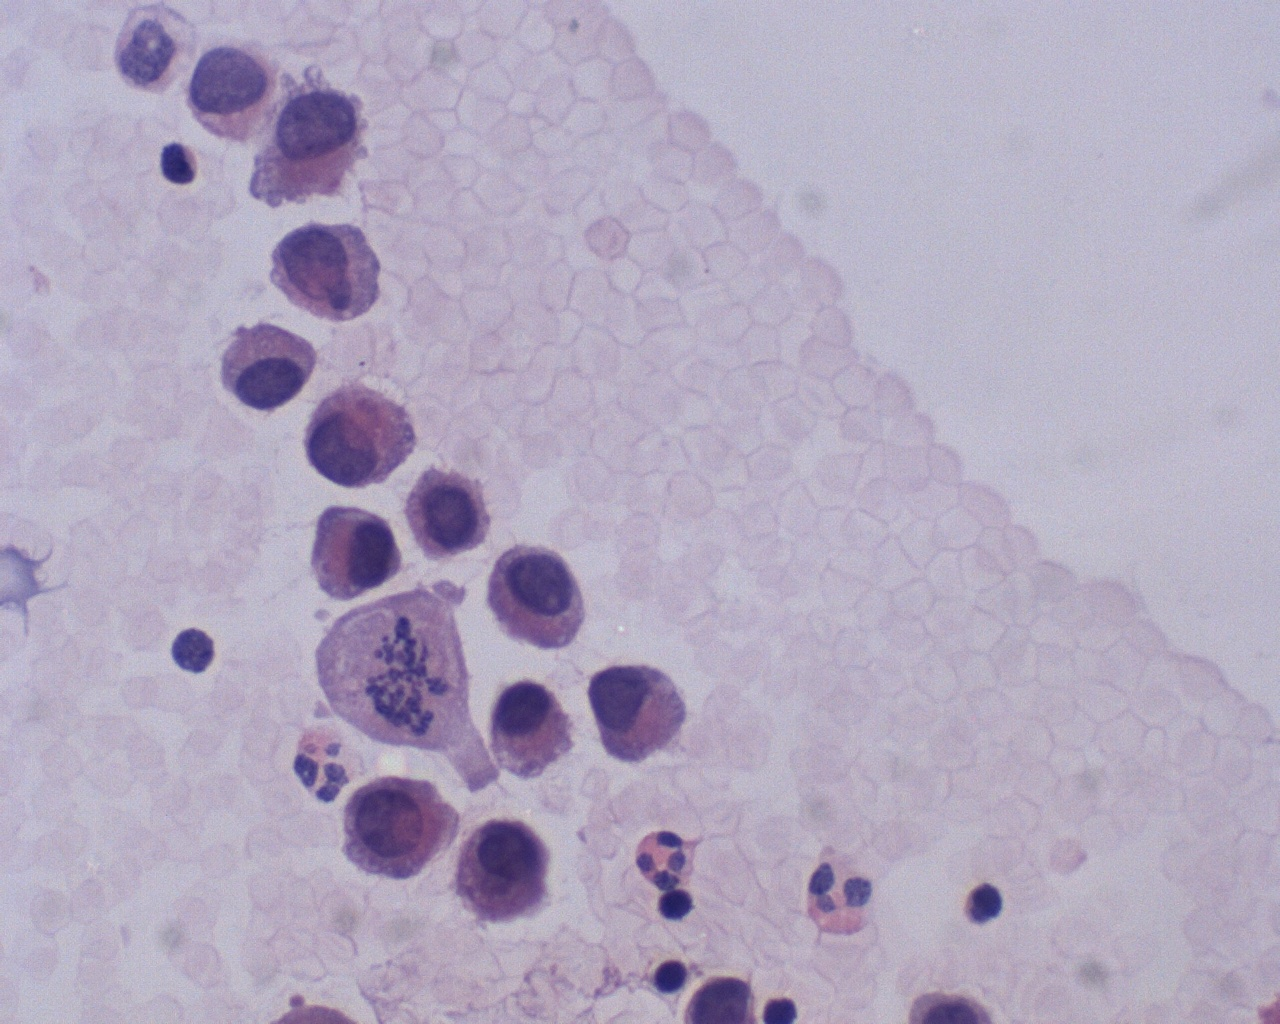ab: (304, 580, 484, 772), (243, 69, 388, 214), (264, 210, 408, 332), (338, 764, 457, 893), (589, 656, 712, 779), (301, 370, 425, 489), (483, 537, 605, 656), (179, 42, 290, 147), (301, 494, 409, 601), (453, 816, 557, 925), (401, 461, 506, 564)
lymph: (648, 956, 697, 994)
meso: (486, 679, 578, 786)
neutro: (632, 828, 701, 890)
